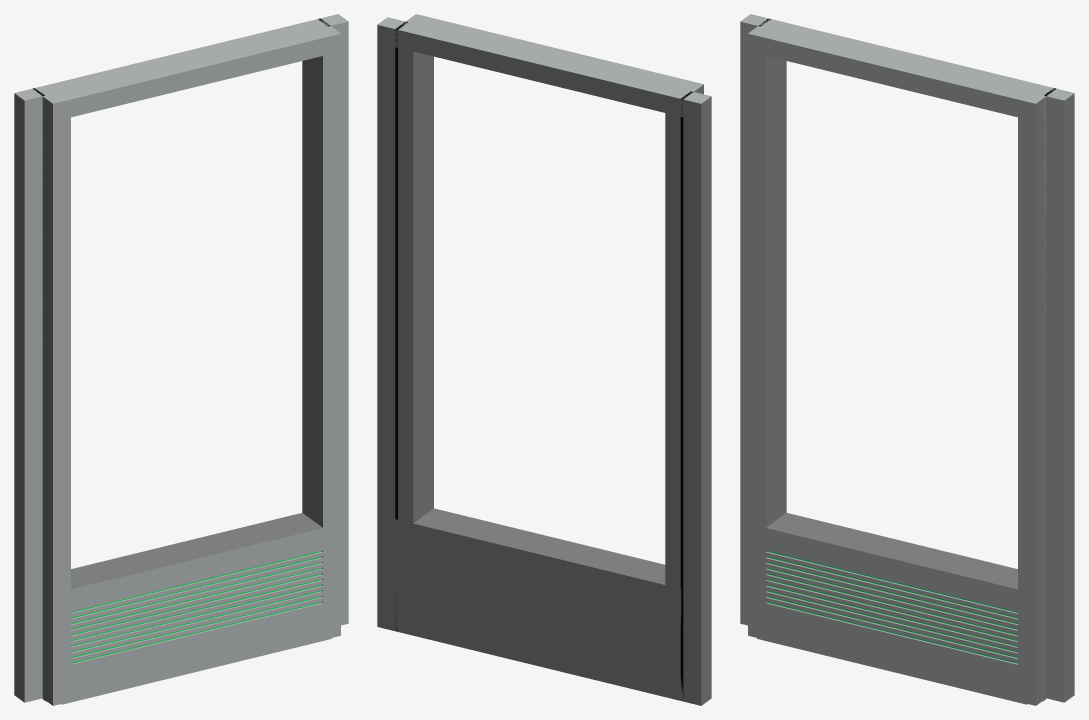
The model's file is mtr_screendoor_2.obj.
3 views of the same model, side by side, from view 1: azimuth 30°, elevation 25°; view 2: azimuth 150°, elevation 25°; view 3: azimuth 330°, elevation 25° (orthographic).
Visible parts, largest first — view 1: g_rd, l_c, g_lg, g_ld, g_rg, g_re, g_le, r_c, cube; view 2: l_c, r_c, cube, g_rd, g_re, g_ld, g_lg, g_rg; view 3: r_c, g_ld, g_rd, g_re, g_lg, g_rg, g_le, l_c, cube.
Part boxes in pixels (box(x1,y1,x2,y2)): g_rd: box(187, 26, 333, 671); l_c: box(14, 18, 330, 702); g_lg: box(42, 61, 196, 705); g_ld: box(42, 61, 196, 703); g_rg: box(188, 28, 340, 671); g_re: box(312, 26, 340, 638); g_le: box(44, 95, 70, 704); r_c: box(32, 14, 348, 625); cube: box(33, 23, 311, 95); l_c: box(395, 21, 711, 705); r_c: box(377, 17, 692, 700); cube: box(413, 26, 691, 117); g_rd: box(406, 17, 559, 546); g_re: box(407, 14, 433, 514); g_ld: box(550, 49, 696, 574); g_lg: box(552, 50, 703, 568); g_rg: box(407, 14, 559, 545); r_c: box(758, 18, 1074, 702); g_ld: box(755, 26, 901, 671); g_rd: box(892, 61, 1046, 703); g_re: box(1018, 92, 1046, 705); g_lg: box(748, 27, 900, 671); g_rg: box(892, 61, 1045, 705); g_le: box(748, 26, 776, 637); l_c: box(740, 14, 1056, 625); cube: box(760, 18, 1037, 91).
Bounding box in the file's own units: 1.12 × 2 × 0.125.
